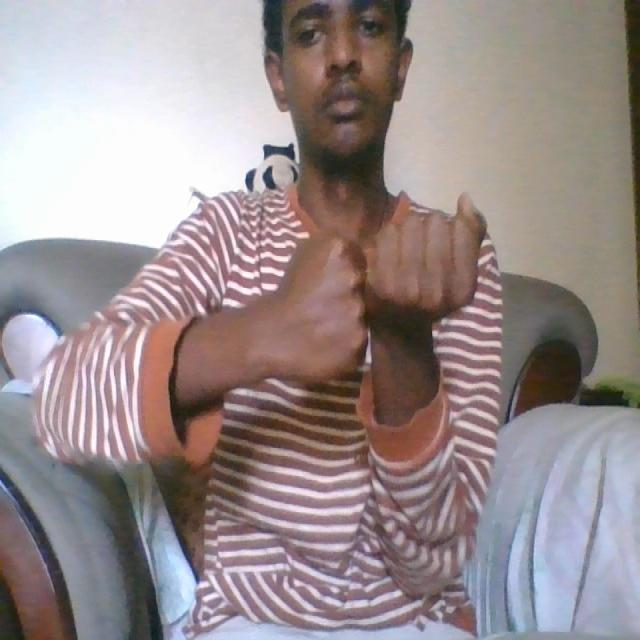beg: (247, 192, 496, 392)
